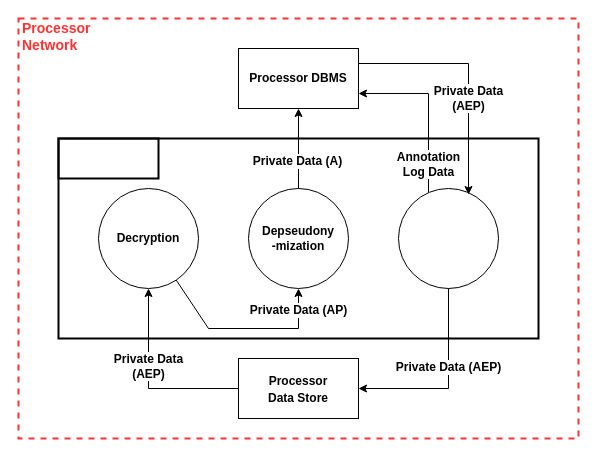
Some shapes in this 596 by 456 pixel diagram are drawn without their labels. The centre of each missing label's shape, as x and y in pixels:
"Annotation" belongs at [448,238].
"Processor Data Marshalling" belongs at [108,158].
